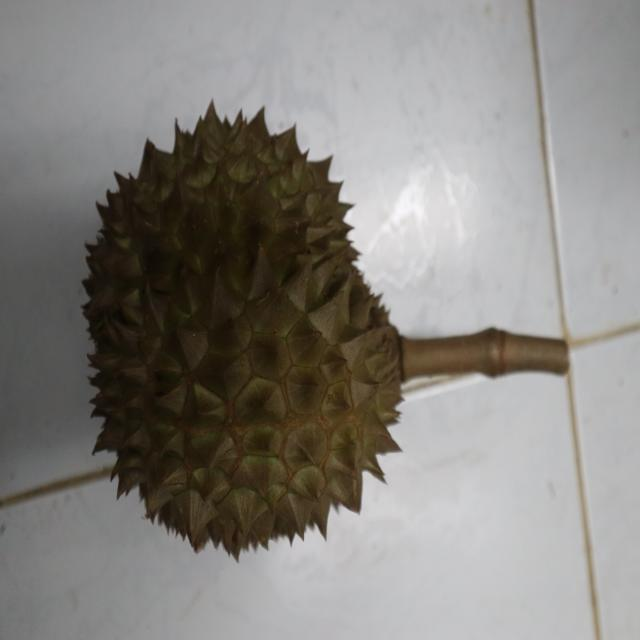mature: (77, 96, 406, 554)
